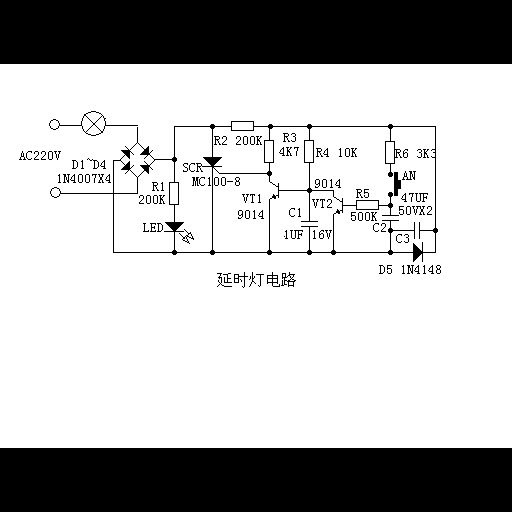capacitor: (410, 219, 425, 240), (299, 218, 320, 229), (380, 212, 399, 223)
firstdiode: (409, 241, 428, 263)
firstled: (164, 219, 197, 245)
firstresistance: (227, 119, 259, 133), (349, 199, 382, 211), (262, 137, 276, 165), (168, 178, 181, 208), (302, 138, 315, 167), (383, 139, 396, 165)
light: (77, 109, 112, 139)
npn: (265, 178, 285, 204), (331, 191, 345, 221)
rectifierbridge: (116, 140, 155, 180)
